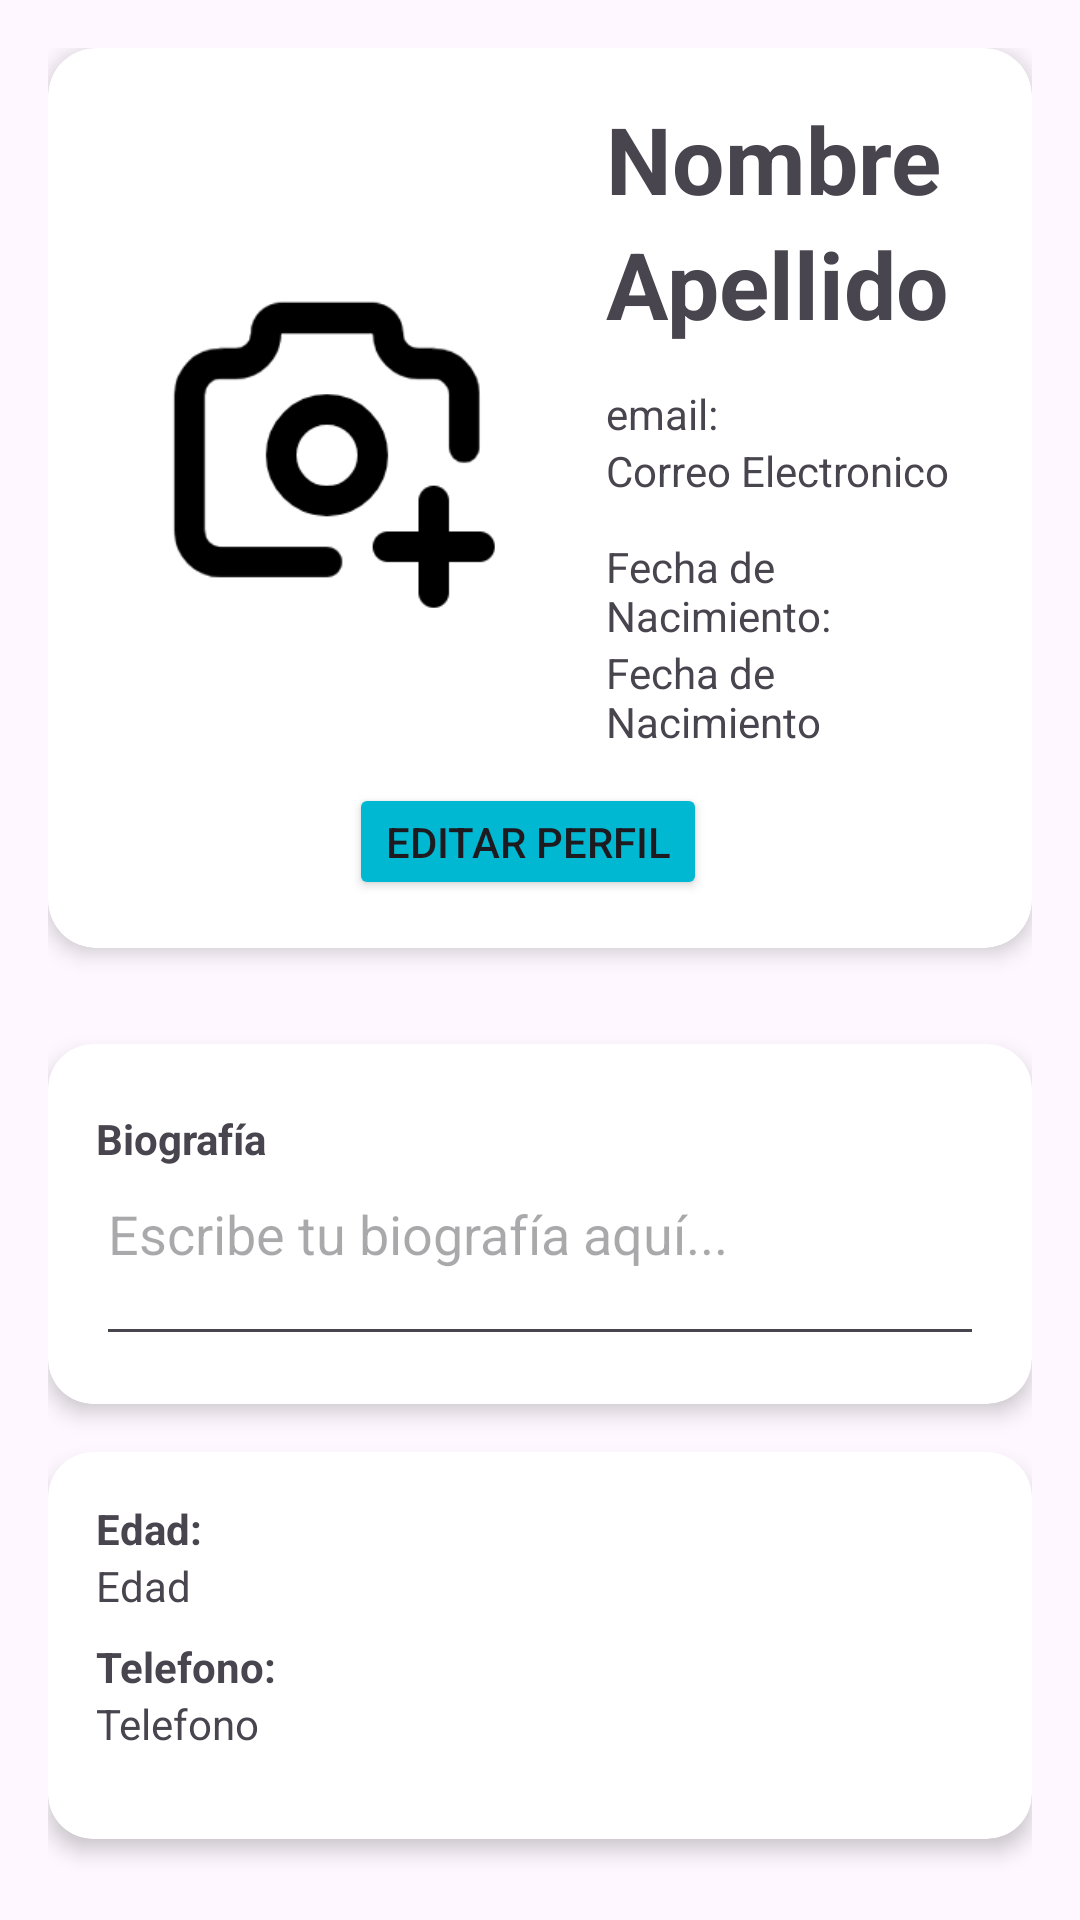

Named icons in this screenshot (1080x1920) and their centers, [x,y]:
Seleccionar imagen: [334,454]
